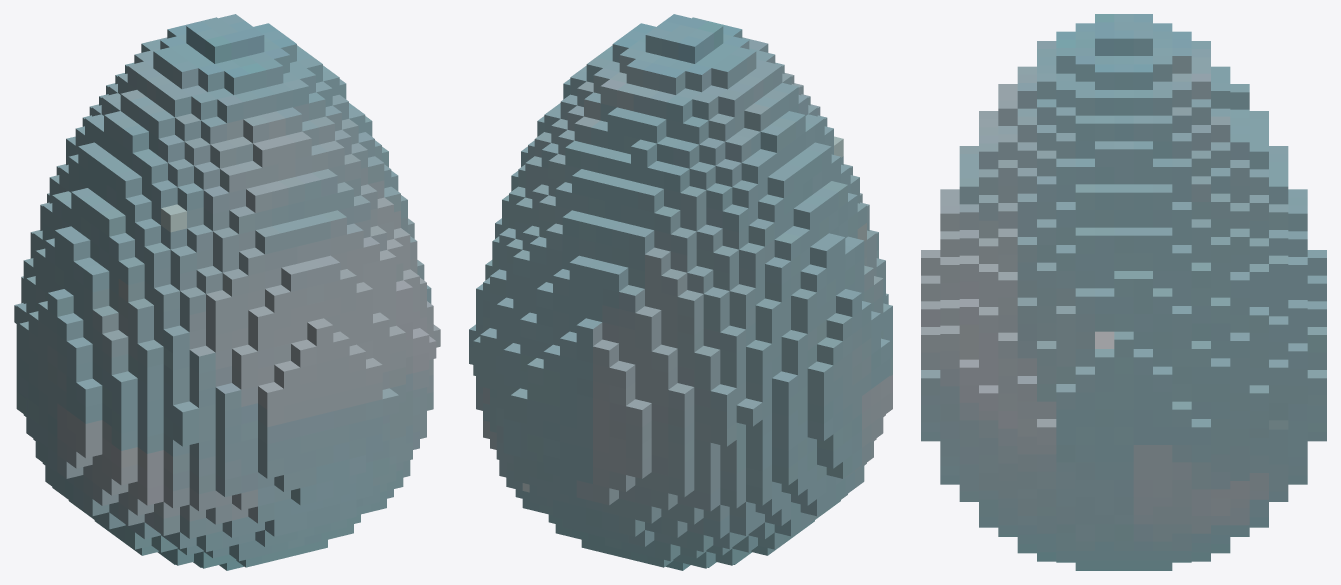
Rendered from diamond-egg-named-nodes.glb.
The picture shows the model from 3 angles, left to right: view 1: azimuth 30°, elevation 25°; view 2: azimuth 150°, elevation 25°; view 3: azimuth 270°, elevation 25°; orthographic projection.
Visible parts, largest first — view 1: tripo_node_b399e1ba-135d-416a-b1db-c2ecaa613050; view 2: tripo_node_b399e1ba-135d-416a-b1db-c2ecaa613050; view 3: tripo_node_b399e1ba-135d-416a-b1db-c2ecaa613050.
Part boxes in pixels (<box>): tripo_node_b399e1ba-135d-416a-b1db-c2ecaa613050: <box>14,14,440,570</box>; tripo_node_b399e1ba-135d-416a-b1db-c2ecaa613050: <box>469,14,892,570</box>; tripo_node_b399e1ba-135d-416a-b1db-c2ecaa613050: <box>921,14,1326,570</box>.
Size of the model in its own units: 0.7292 by 1.01 by 0.7292.
1 material, 1 textured.
